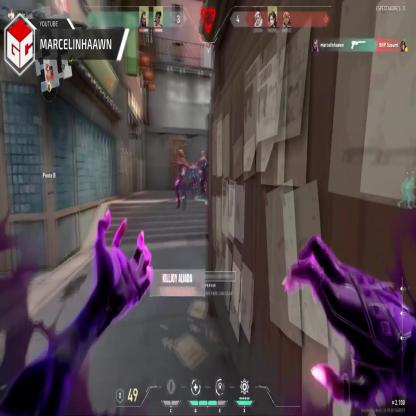enemy: (174, 147, 188, 208), (198, 150, 208, 202), (190, 160, 198, 195)
enemy_head: (178, 149, 183, 159), (200, 150, 204, 158), (192, 160, 195, 166)
